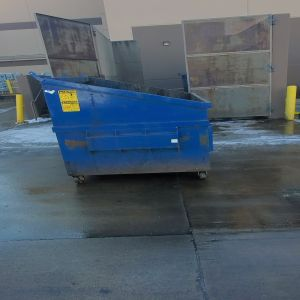Dumpster: (40, 77, 217, 187)
